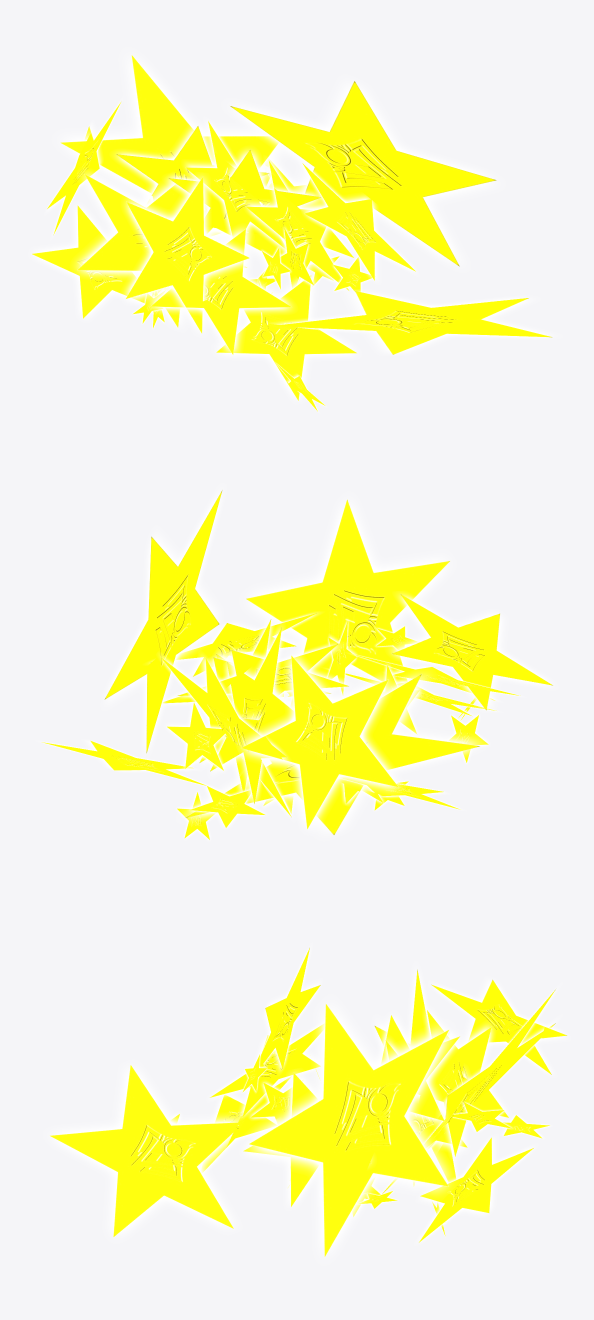
3 renders of one model, top to bottom at view 1: azimuth 30°, elevation 25°; view 2: azimuth 150°, elevation 25°; view 3: azimuth 270°, elevation 25°, orthographic. The views are drawn at different scales.
Parts seen in each view (by area): view 1: smoke; view 2: smoke; view 3: smoke.
Boxes of the visible parts, <box> form: smoke: <box>30,52,557,412</box>; smoke: <box>38,487,554,840</box>; smoke: <box>47,945,568,1259</box>.
Size of the model in its own units: 1.45 by 1.16 by 1.77.
1 material, 1 textured.
